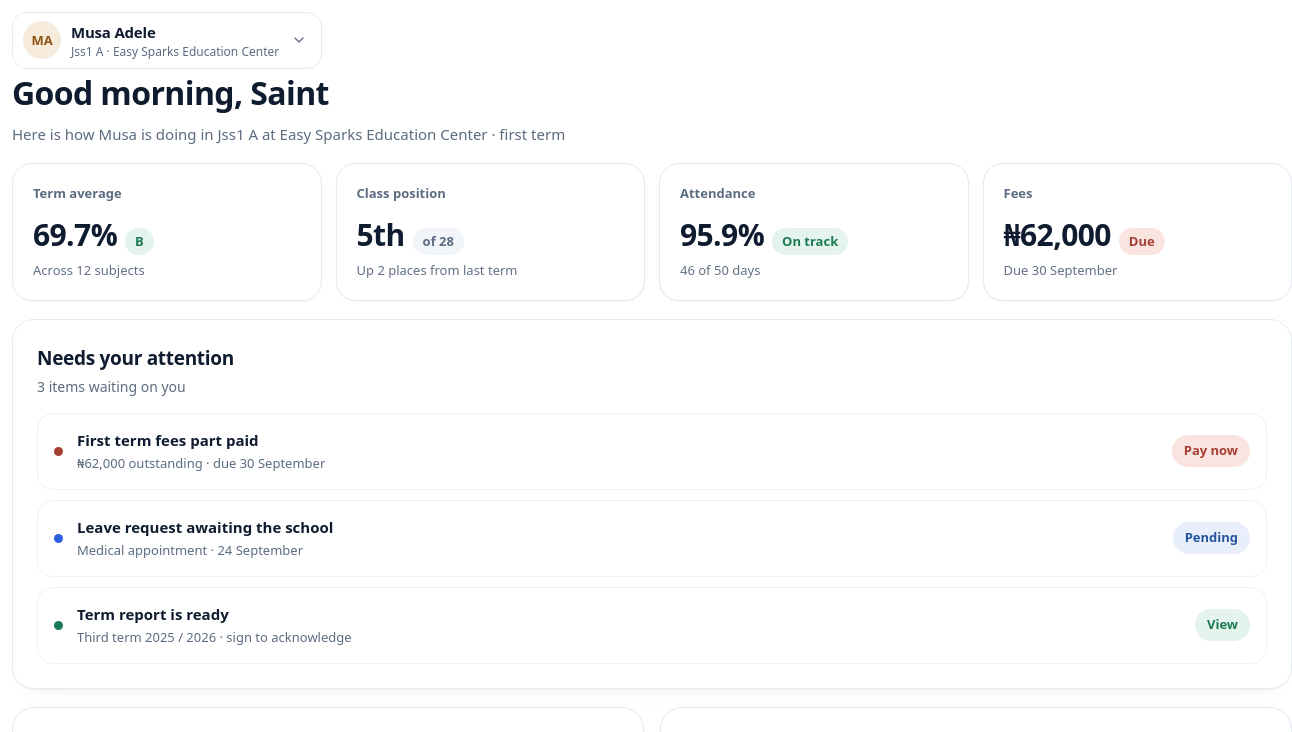
Test: ChildSwitcher › switching child refetches the child-scoped screen with the new X-Talim-Child
The width and height of the screenshot is (1292, 732).
Expected: the text "Here is how Musa is doing" is shown, [12,124,565,144]
Click the button "MA Musa Adele Jss1 A · Easy Sparks Education Center": coordinates (167, 40) [12,12,322,68]
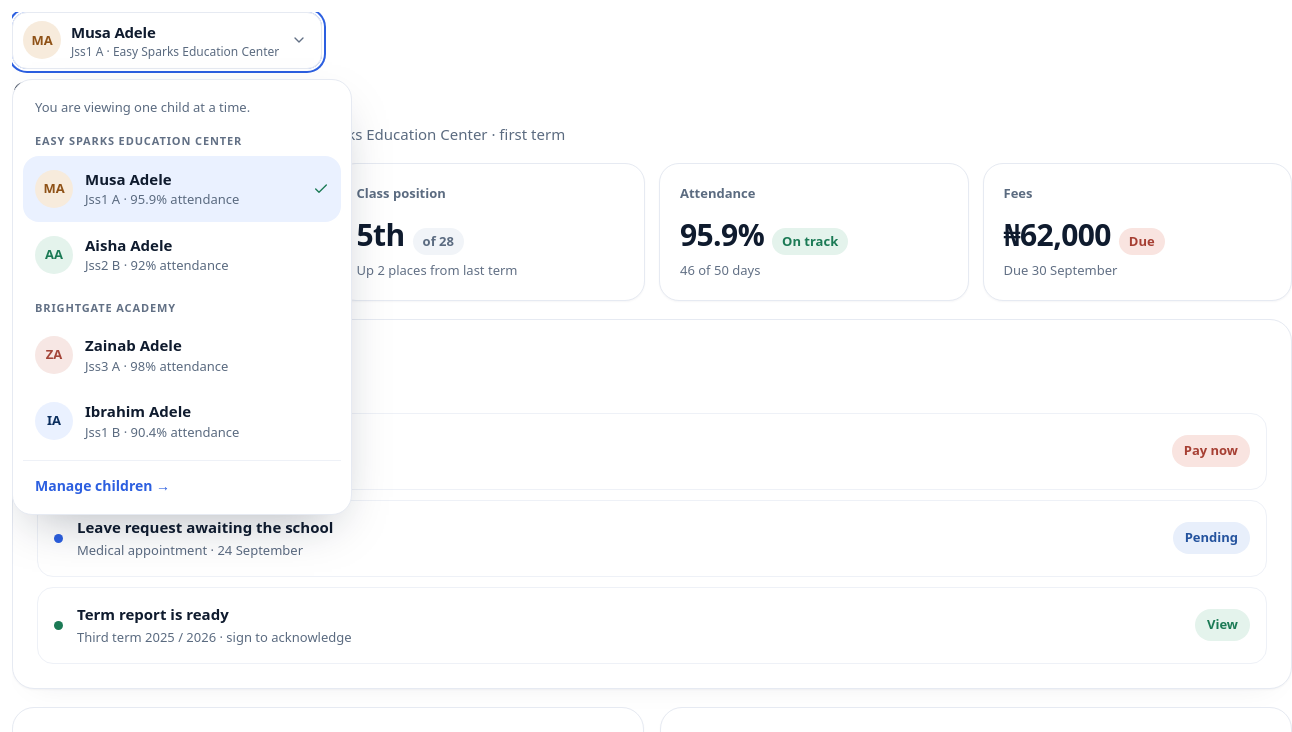
Click the button "ZA Zainab Adele Jss3 A · 98% attendance": coordinates (182, 355) [23,322,341,388]
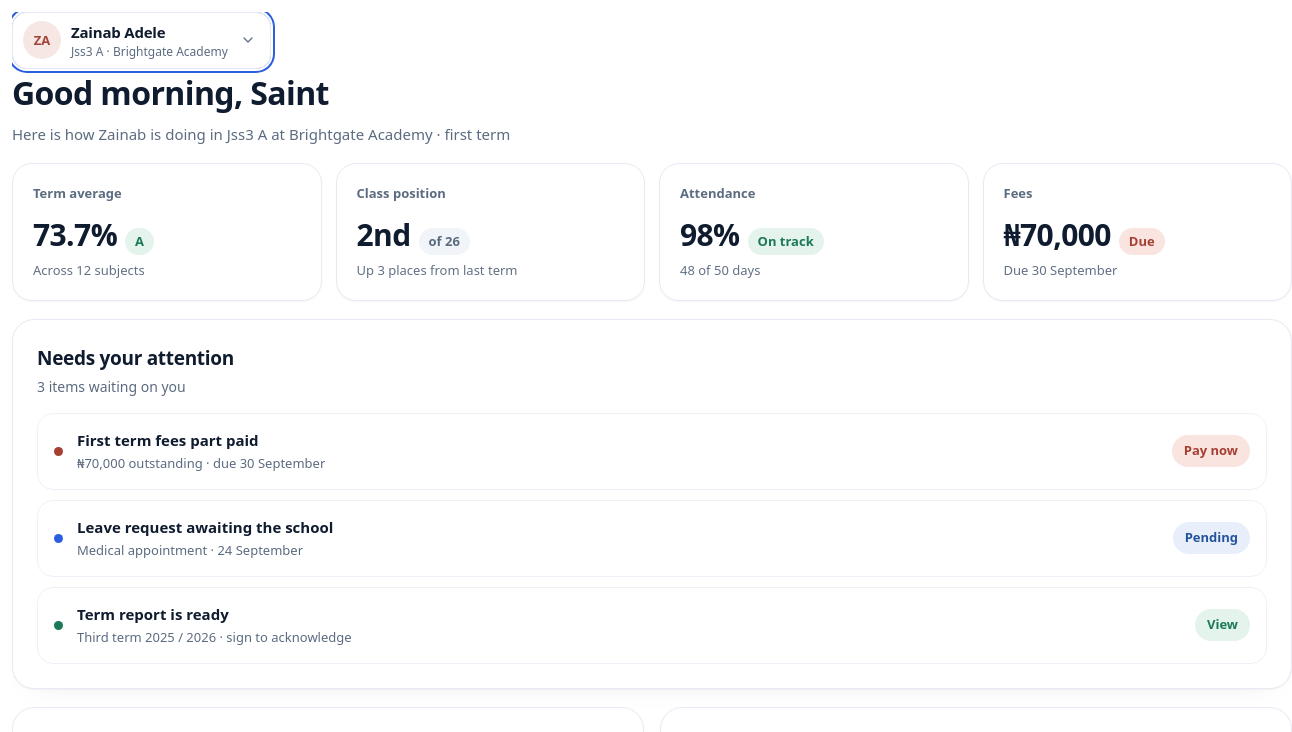
Now the text "Here is how Zainab is doing in Jss3 A at Brightgate Academy" is shown, box [12,124,510,144]
